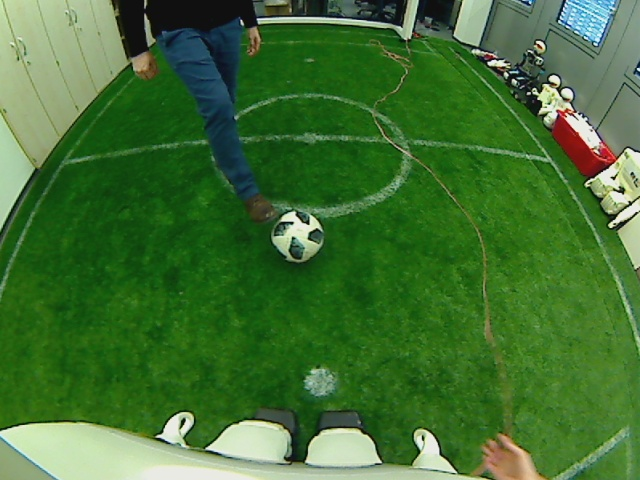ball: (269, 207, 325, 263)
